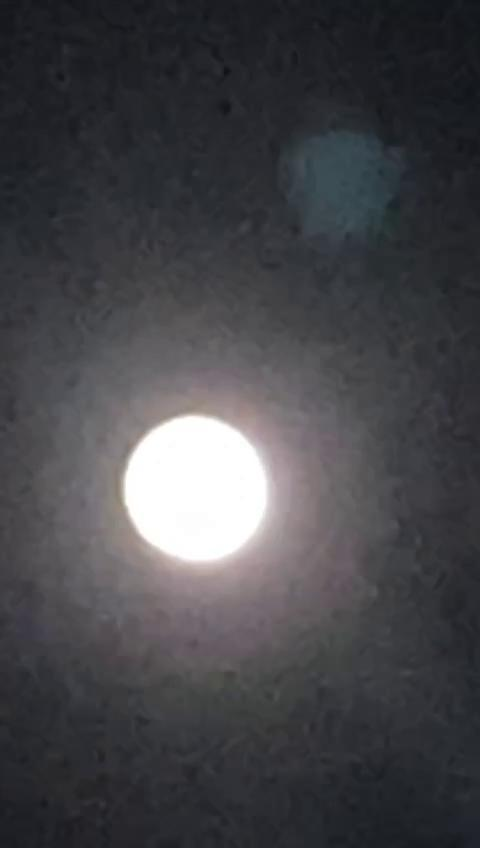moon: (120, 391, 287, 582)
